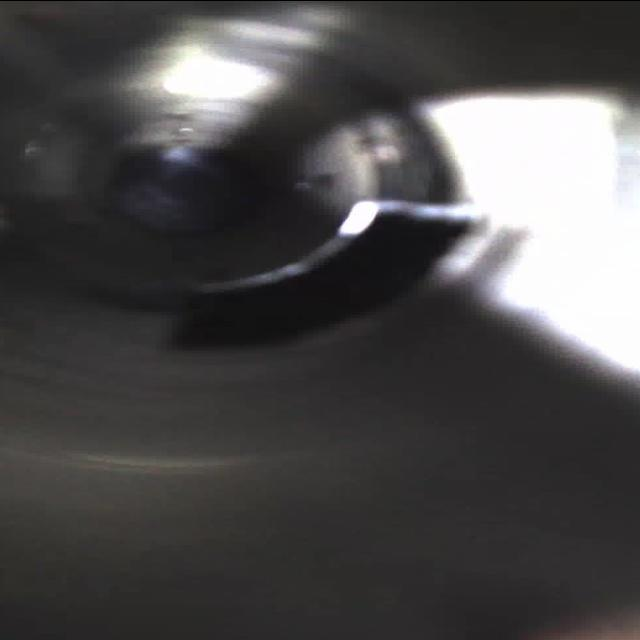hole: (150, 186, 522, 376)
